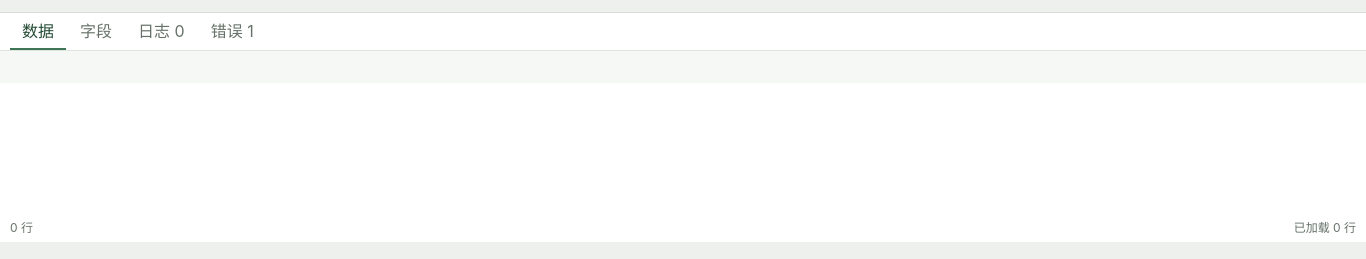
Test case: DataPanel › shows structured errors in the error tab
Click the tab "错误 1" at (232, 31), box [199,12,266,50]
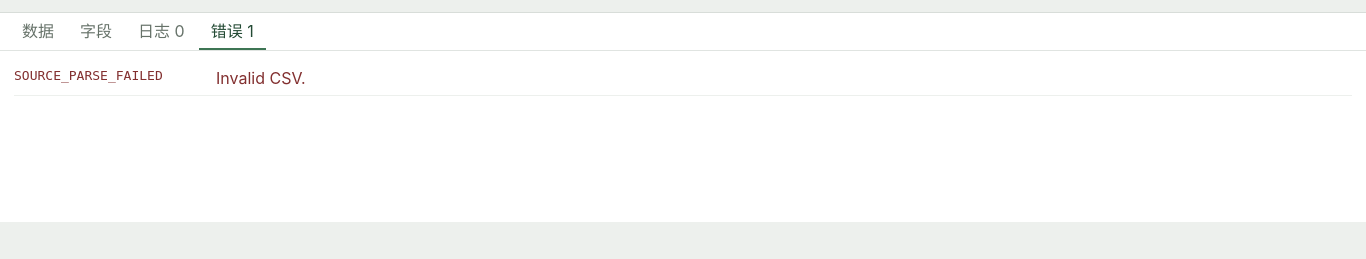
Expected: the text "SOURCE_PARSE_FAILED" is shown, [14,68,163,83]
